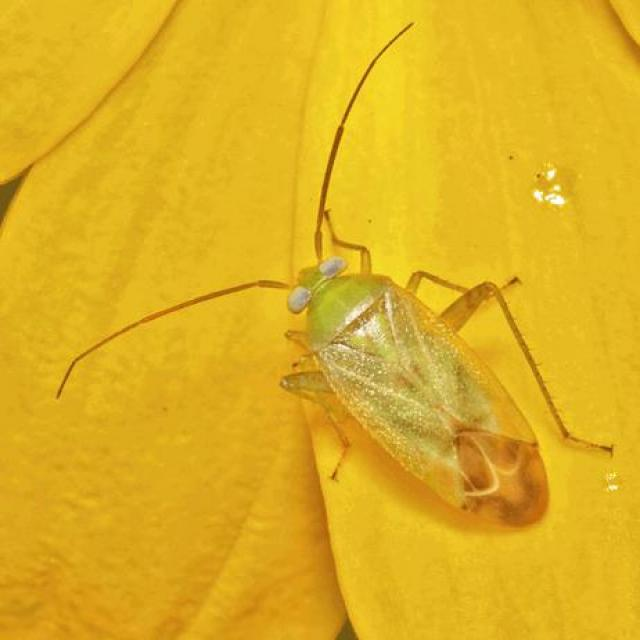Miridae-Adult-: (48, 21, 622, 532)
